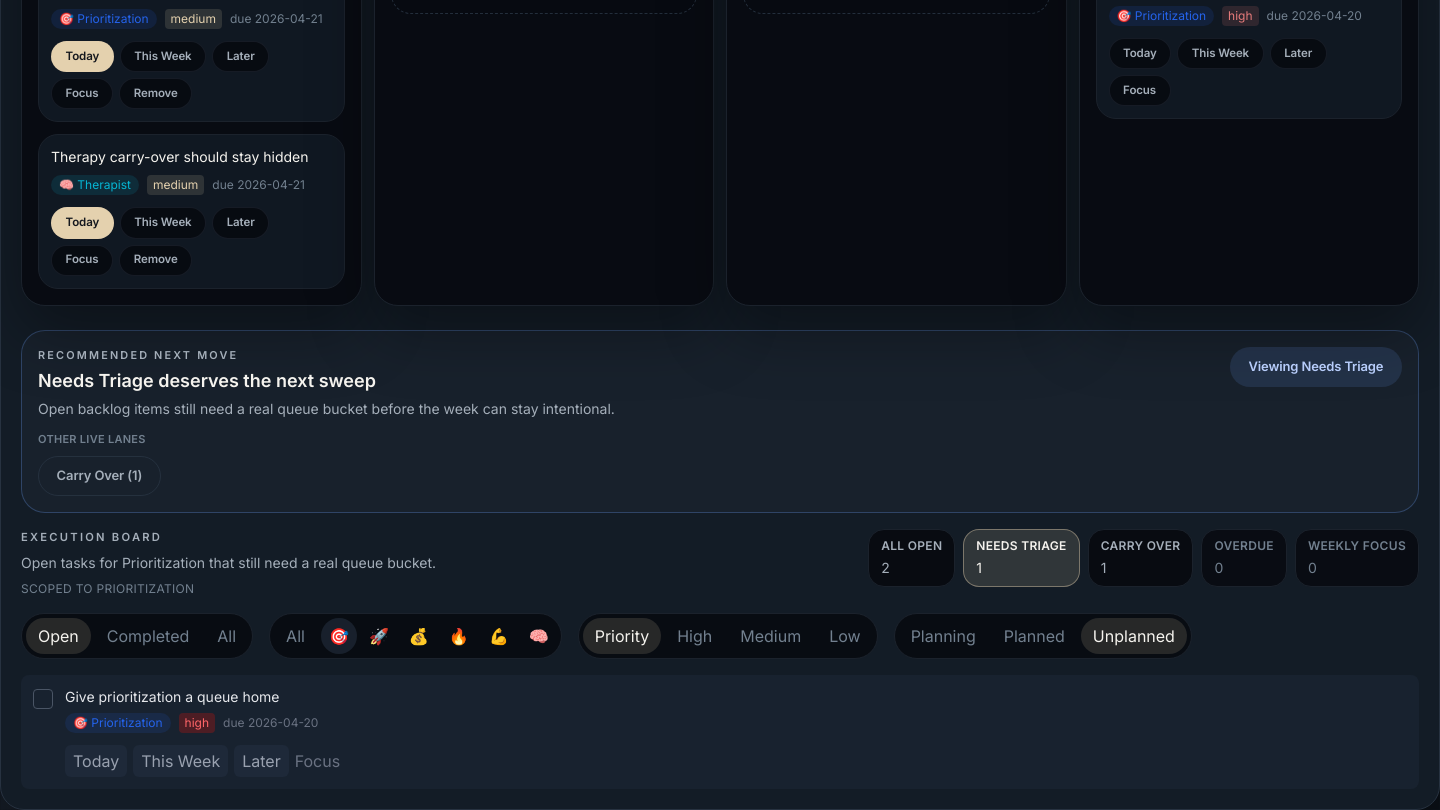
TaskDashboard › keeps advisor scope when switching planner presets from a routed advisor view
The image size is (1440, 810).
(page scrolled)
Step 1. Click the button "Carry Over 1" → (1140, 558), box [1088, 529, 1193, 587]
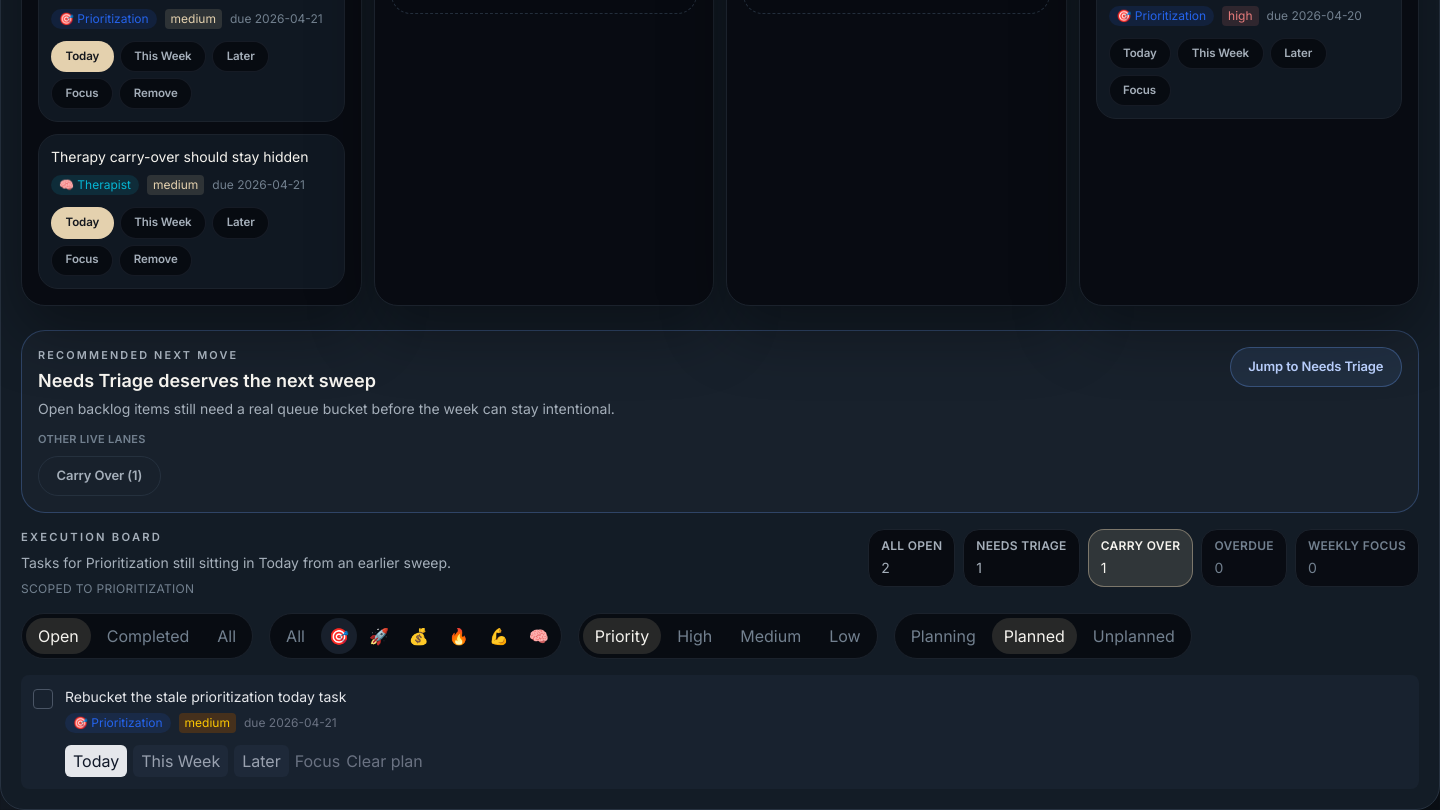
Expected: the text "Scoped to Prioritization" is shown, [21, 581, 194, 596]
Expected: the text "Rebucket the stale prioritization today task" below "Scoped to" is shown, [65, 688, 346, 705]
